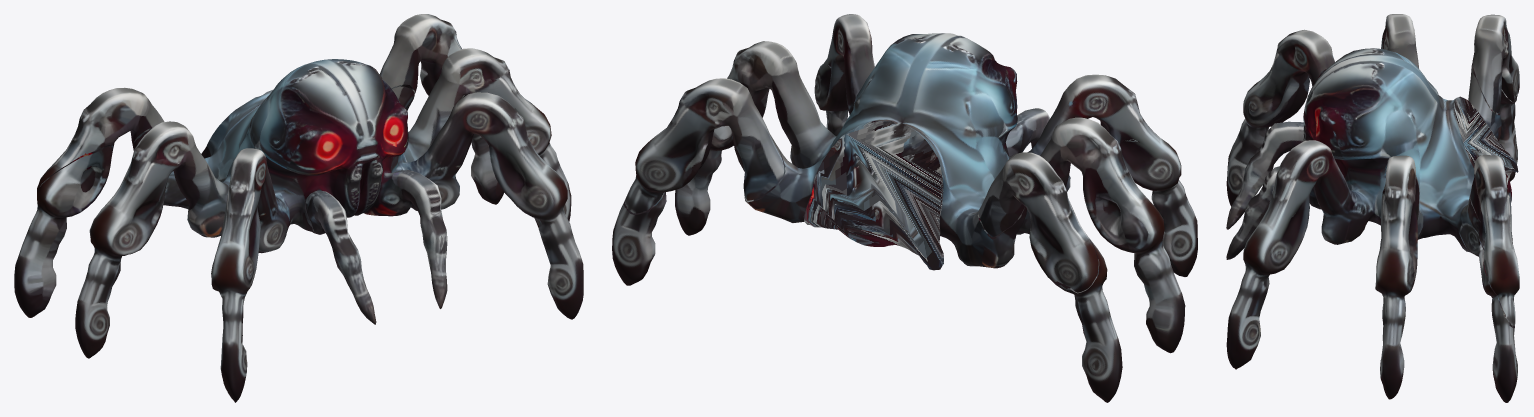
File: spider2forward-compressed.glb
The picture shows the model from 3 angles, left to right: view 1: azimuth 30°, elevation 25°; view 2: azimuth 150°, elevation 25°; view 3: azimuth 270°, elevation 25°; orthographic projection. The views are drawn at different scales.
Visible parts, largest first — view 1: Object_2_cell.005; view 2: Object_2_cell.005; view 3: Object_2_cell.005.
Boxes of the visible parts, box(x1,y1,x2,y2) form: Object_2_cell.005: box(14, 14, 583, 402); Object_2_cell.005: box(612, 14, 1197, 402); Object_2_cell.005: box(1226, 14, 1519, 402).
Bounding box in the file's own units: 1.54 × 0.731 × 0.8252.
Materials: 1 (1 with a texture image).
